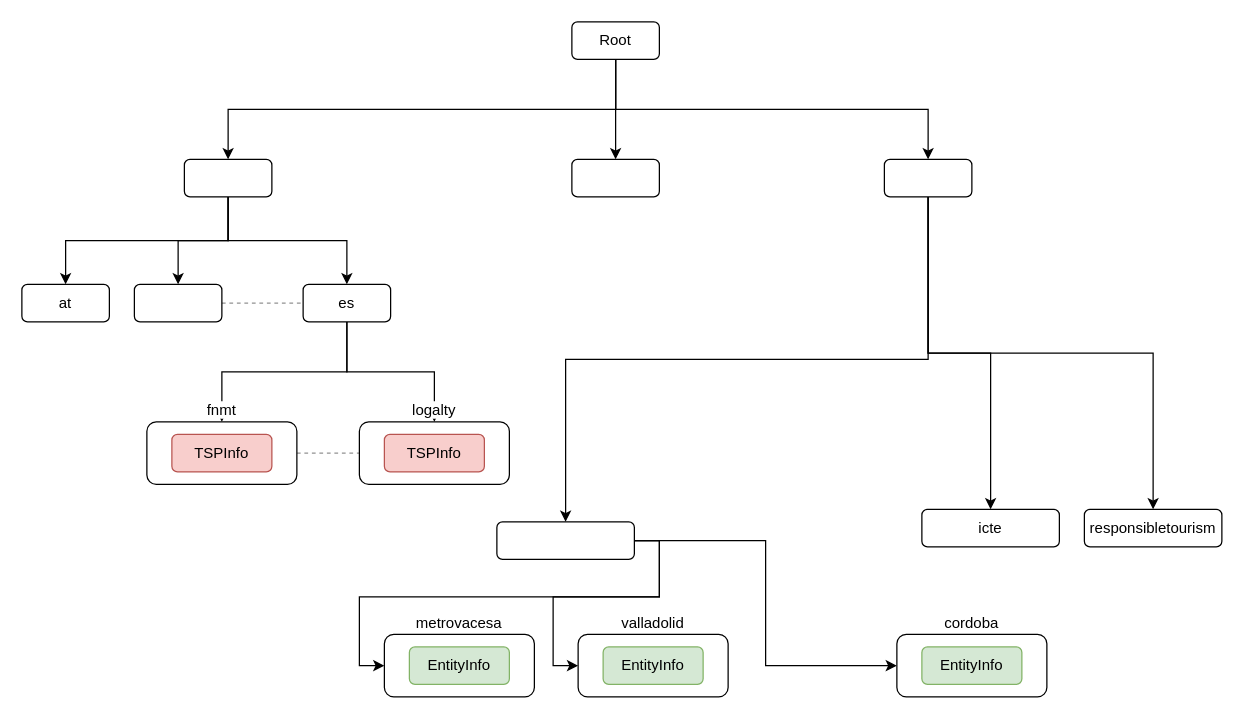
The diagram is 1244 pixels wide and 719 high, and some of its shapes have lost their labels. The centre of each missing label's shape, as x and y in pixels:
ala: the point at 615,177
de: the point at 177,302
deconfianza: the point at 565,540
pubcred: the point at 927,177
trust: the point at 227,177
